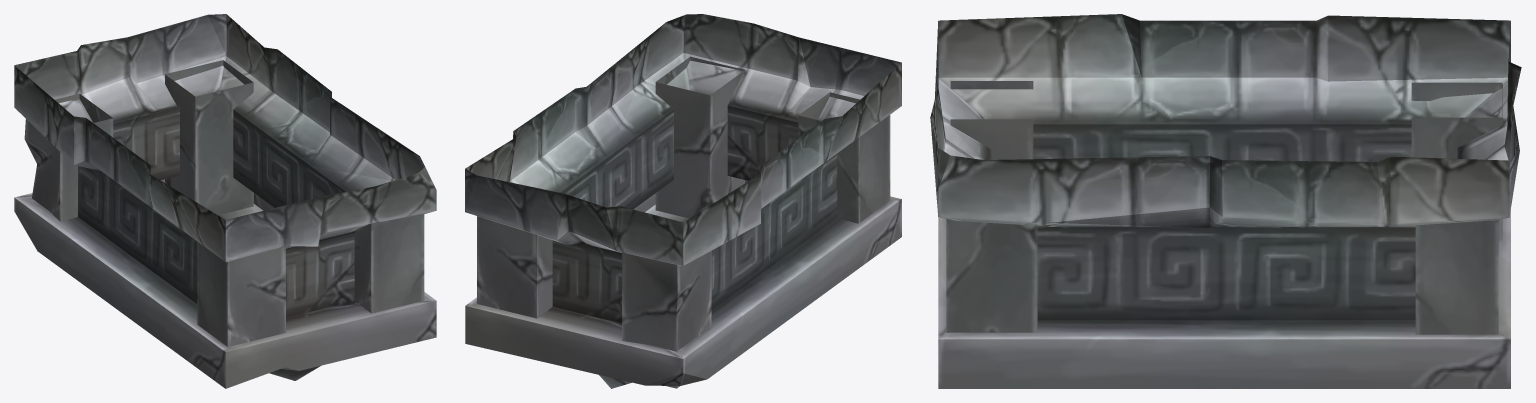
File: crypt_01.FBX
3 renders of one model, left to right at view 1: azimuth 30°, elevation 25°; view 2: azimuth 150°, elevation 25°; view 3: azimuth 270°, elevation 25°, orthographic. The views are drawn at different scales.
Parts seen in each view (by area): view 1: crypt_01; view 2: crypt_01; view 3: crypt_01.
Boxes of the visible parts, <box> form: crypt_01: <box>14,14,436,388</box>; crypt_01: <box>465,14,901,388</box>; crypt_01: <box>930,14,1521,388</box>.
Bounding box in the file's own units: 53.18 × 48.26 × 89.57.
